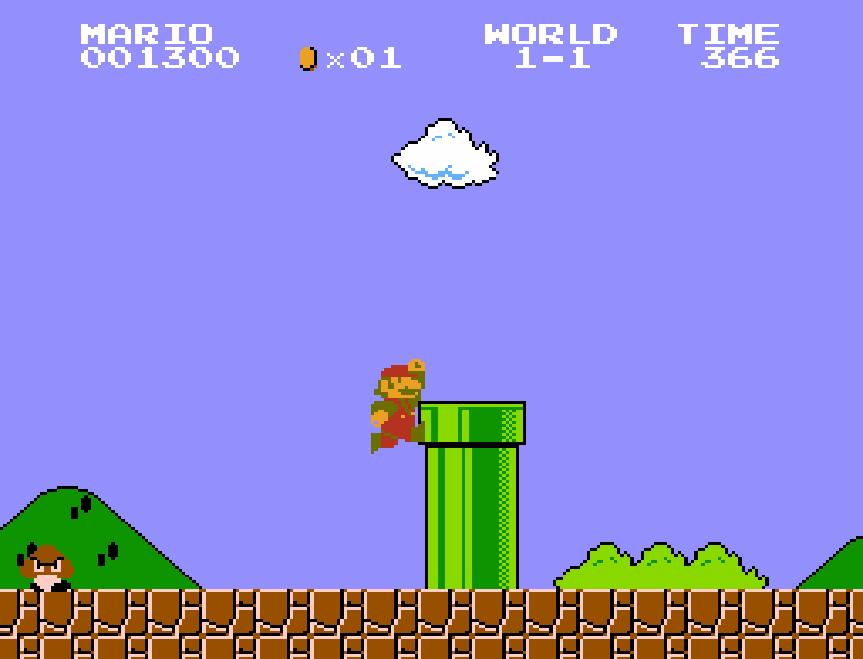big_mario: (368, 357, 426, 456)
